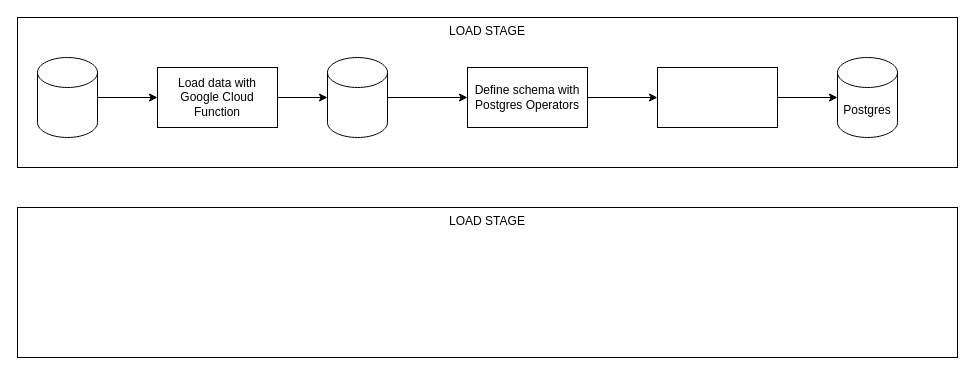
Some shapes in this 975 by 375 pixel diagram are drawn without their labels. Each missing label, with the centre of its shape:
"CSV - Github" belongs at point (67, 97).
"GCS - Bucket" belongs at point (357, 97).
"Load data" belongs at point (717, 97).
